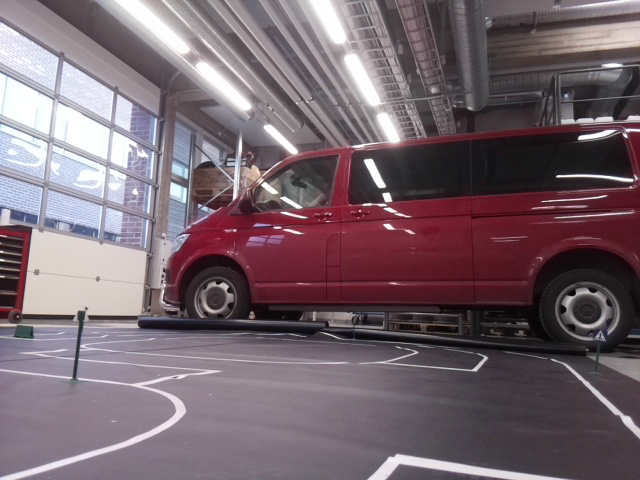Crosswalk: (593, 329, 607, 343)
